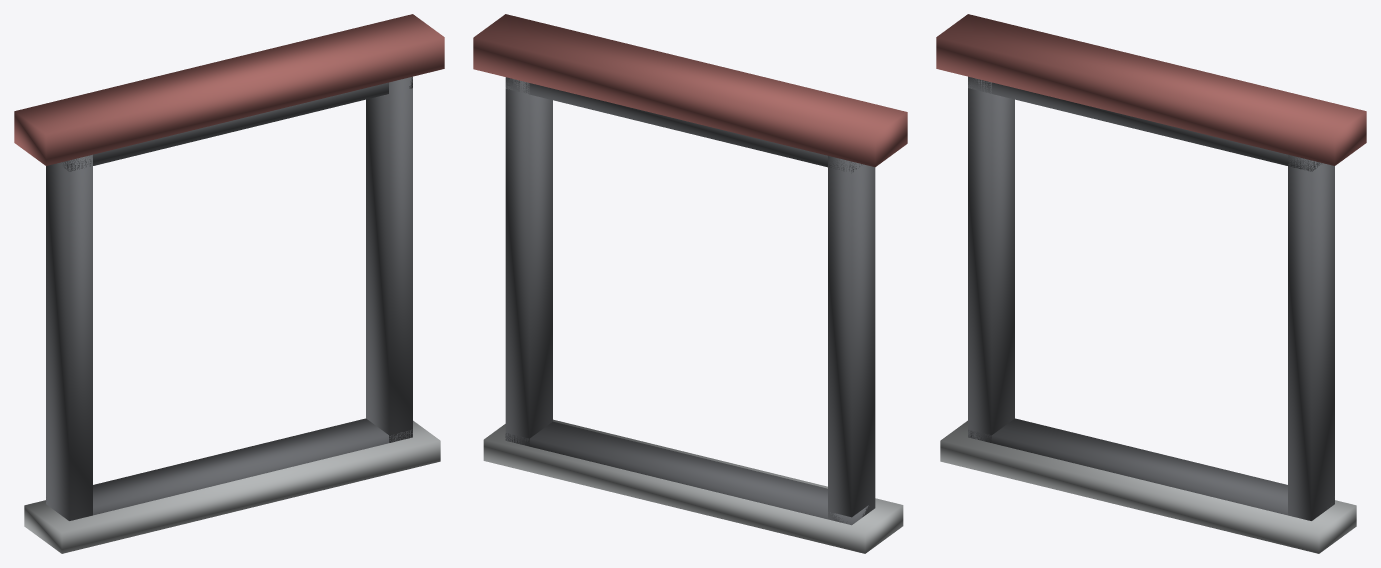
The model's file is egress_window_brick_w118_h130_s72_d16.glb.
The picture shows the model from 3 angles, left to right: view 1: azimuth 30°, elevation 25°; view 2: azimuth 150°, elevation 25°; view 3: azimuth 330°, elevation 25°; orthographic projection.
Parts seen in each view (by area): view 1: world; view 2: world; view 3: world.
Part boxes in pixels (left/top/right/bottom): world: left=14, top=14, right=444, bottom=553; world: left=473, top=14, right=907, bottom=553; world: left=936, top=14, right=1366, bottom=553.
Bounding box in the file's own units: 1.59 × 1.59 × 0.26.
